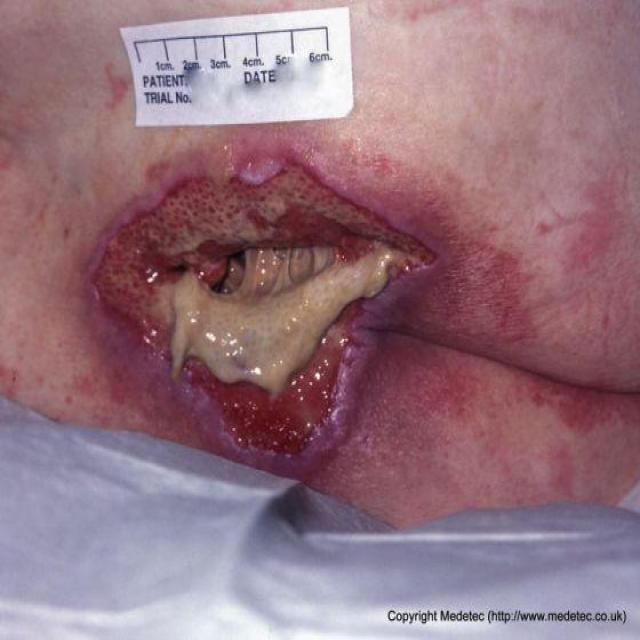Unstageable: (95, 166, 431, 455)
stage-1: (536, 185, 620, 272)
